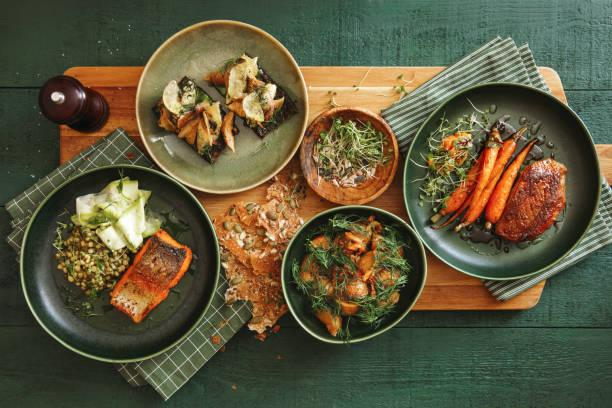Braised Crucian Carp: (20, 165, 215, 362), (404, 81, 597, 280), (136, 19, 306, 194), (279, 205, 425, 344)
